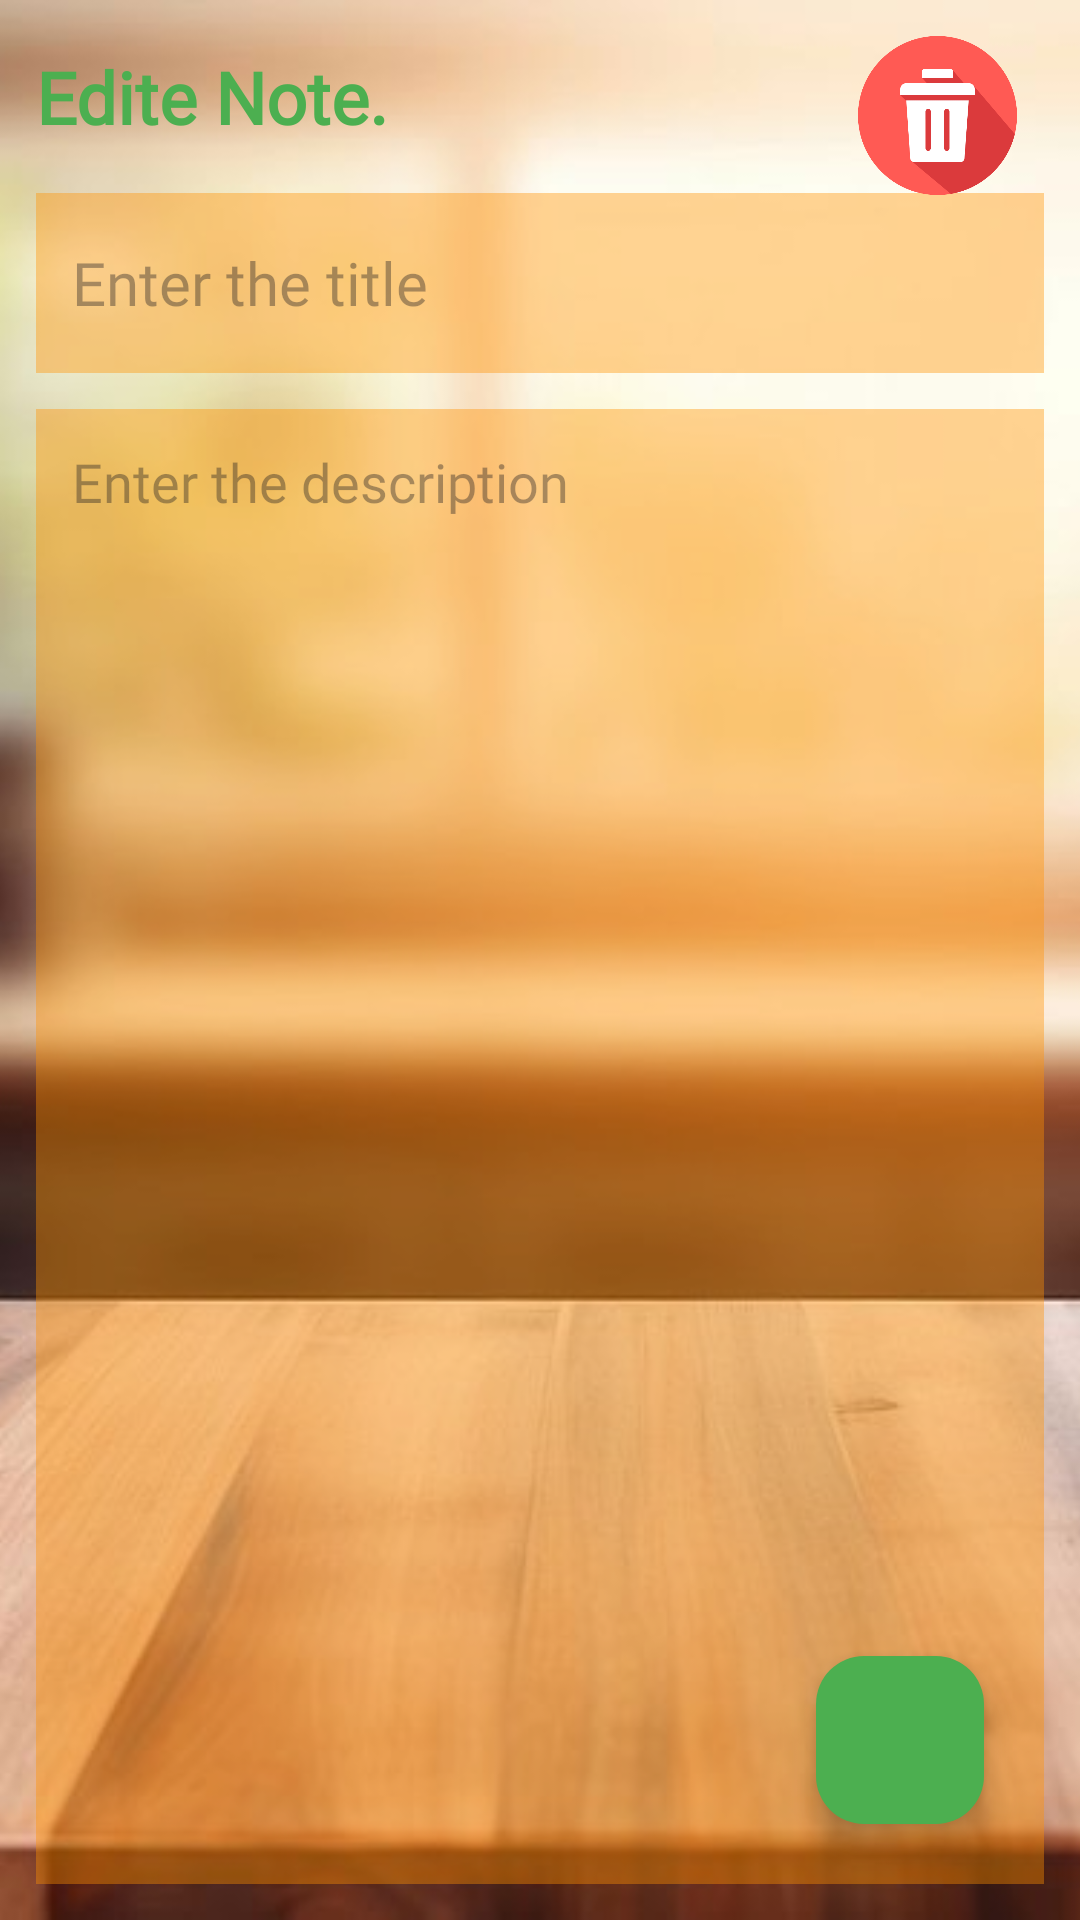

Point at icon controls on the screen. Image size 1080px×1920px, points as point (x, y).
delete: point (937, 115)
